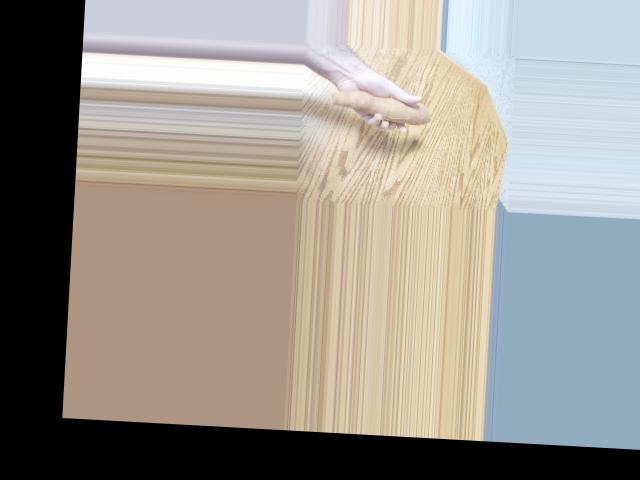sweet_potato: (320, 80, 434, 127)
